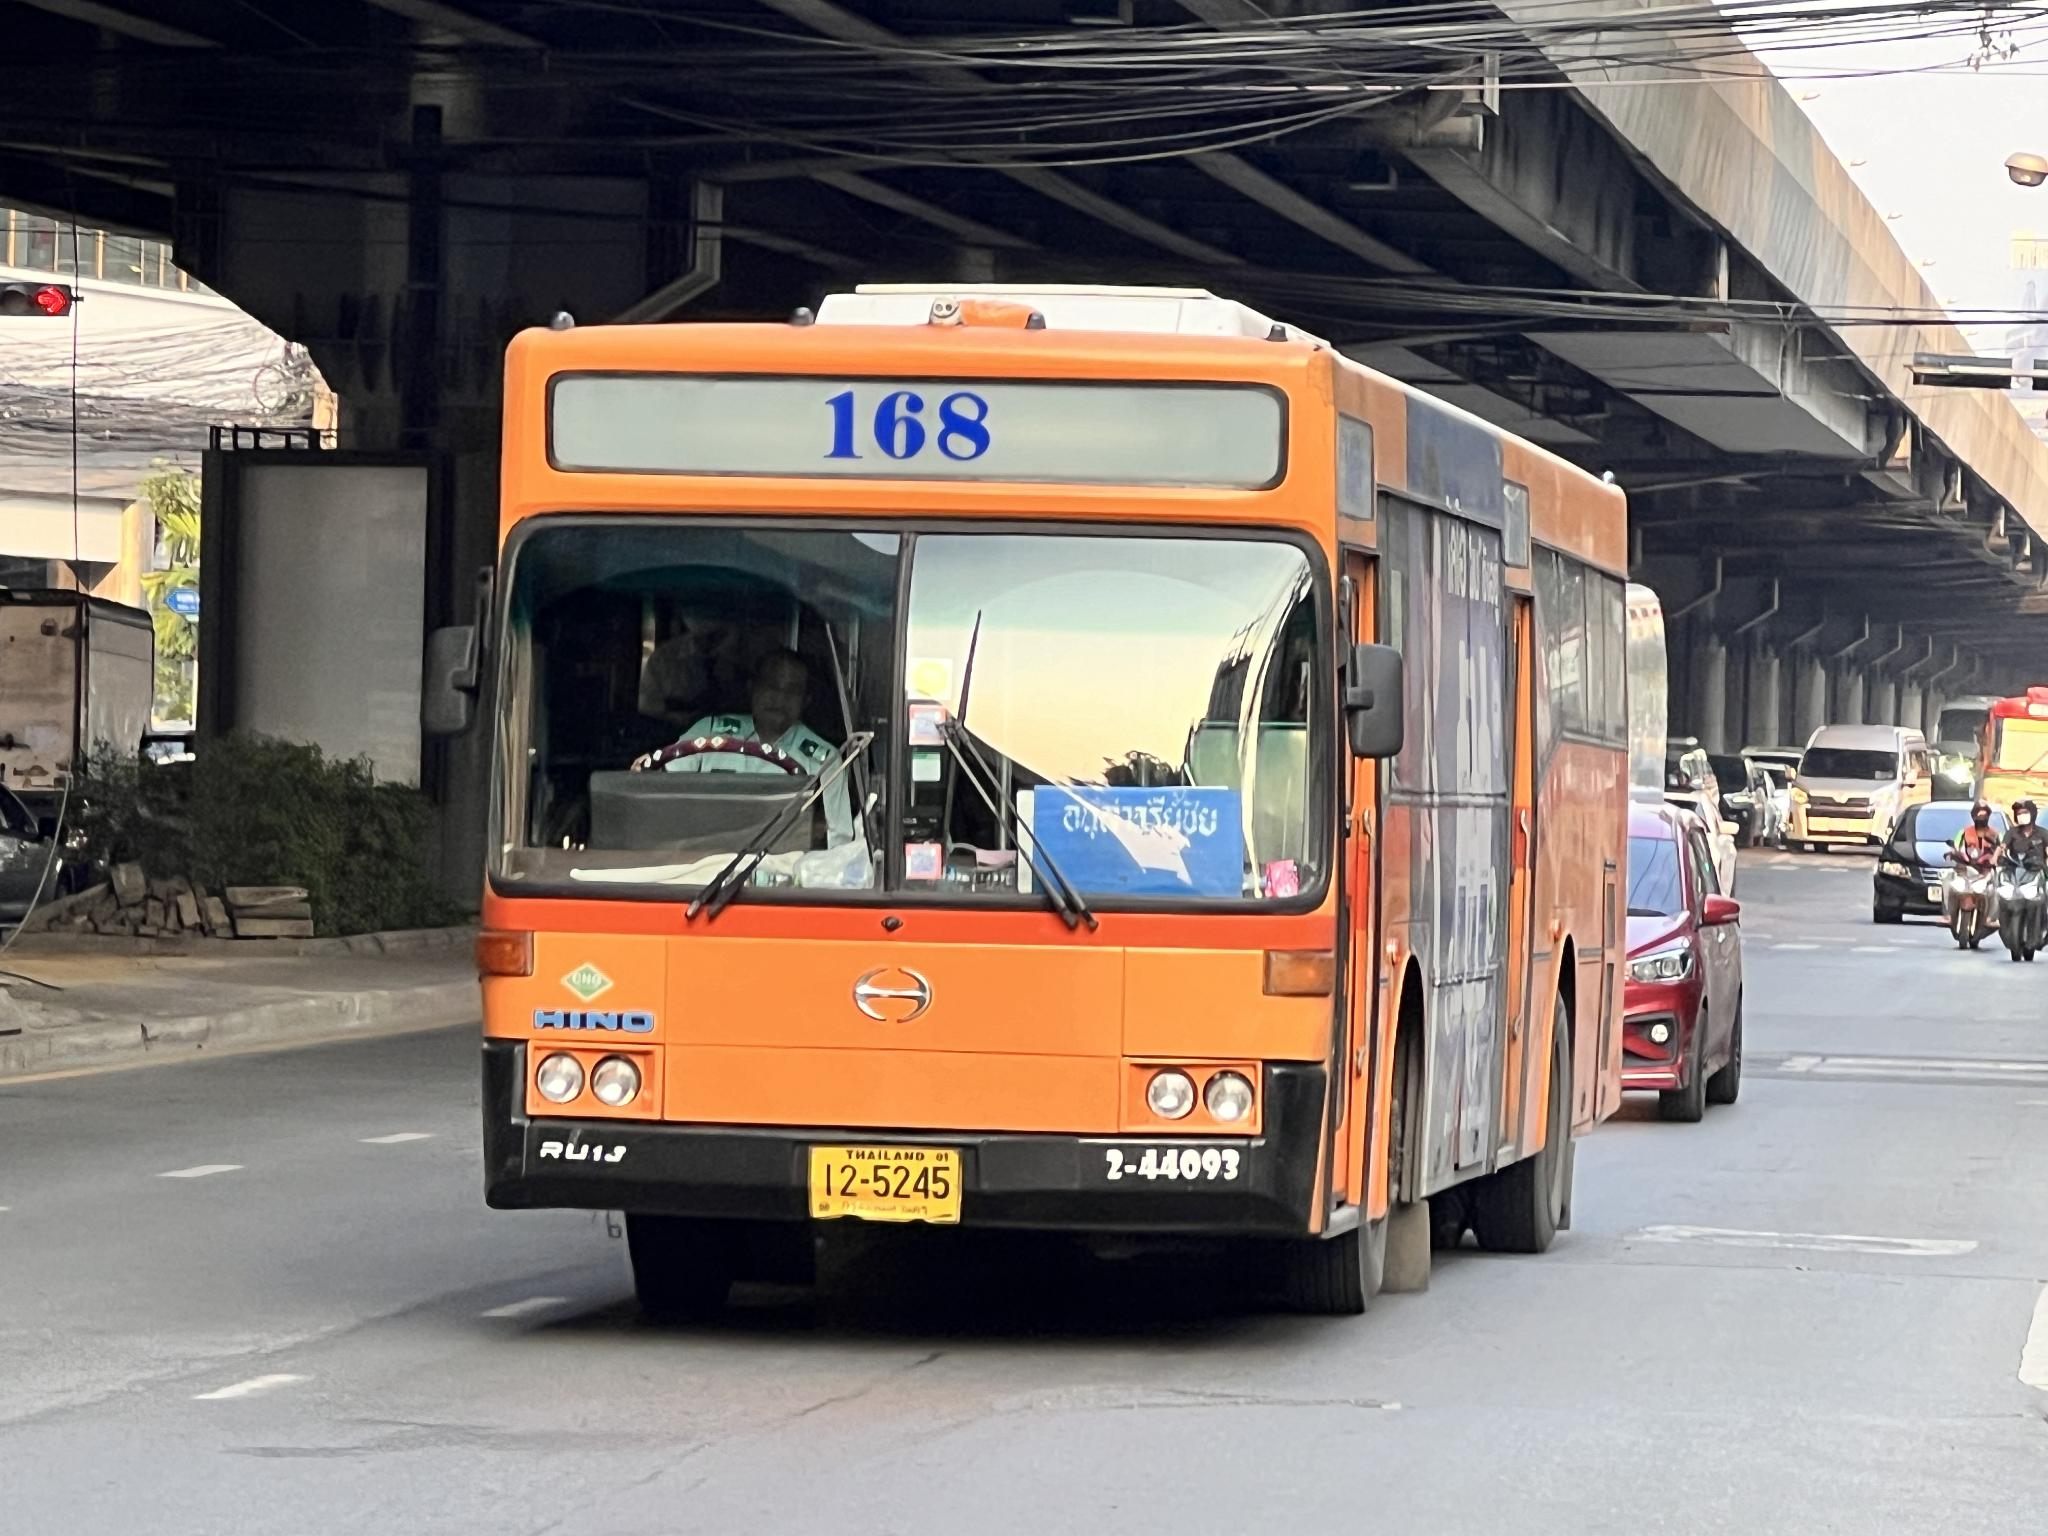BMTA-bus: (472, 287, 1659, 1325)
Bus Line Number: (803, 371, 1027, 478)
Bus Side Number: (1093, 1137, 1247, 1194)
Destination Sign: (1030, 786, 1247, 905)
